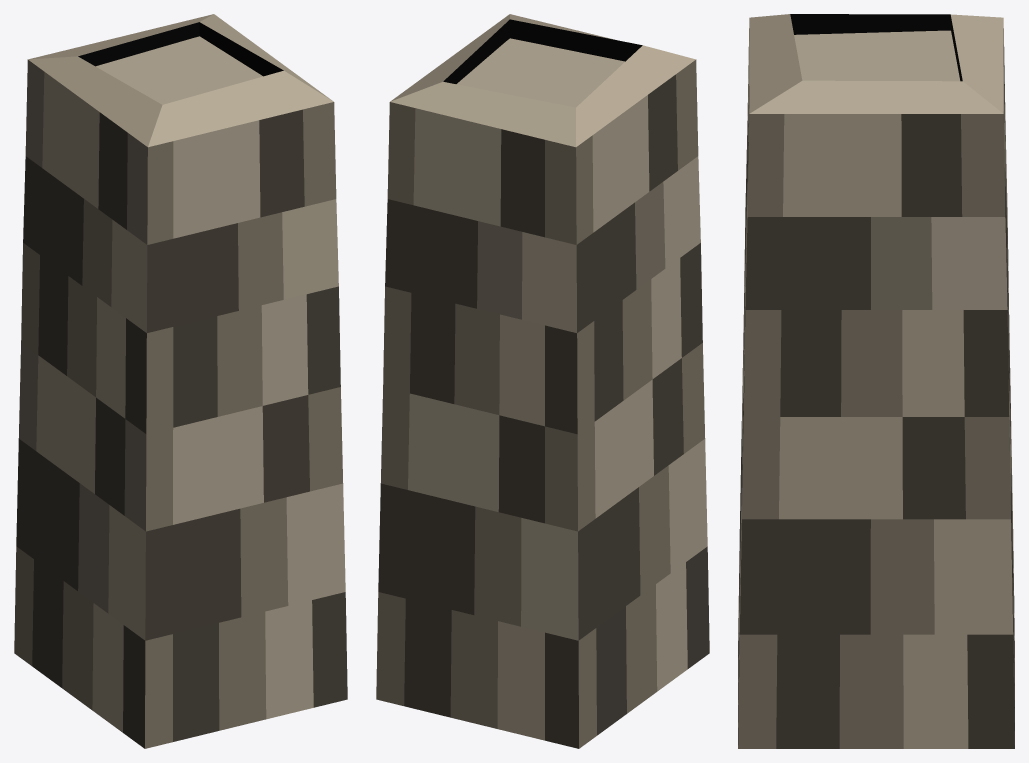
The model's file is chimney.fbx.
The picture shows the model from 3 angles, left to right: view 1: azimuth 30°, elevation 25°; view 2: azimuth 150°, elevation 25°; view 3: azimuth 270°, elevation 25°; orthographic projection. The views are drawn at different scales.
Parts seen in each view (by area): view 1: chimney; view 2: chimney; view 3: chimney.
Boxes of the visible parts, x1,y1,x2,y2 form: chimney: (14,14,347,748); chimney: (376,14,709,748); chimney: (738,14,1014,748).
Size of the model in its own units: 6.27 by 18.2 by 7.
